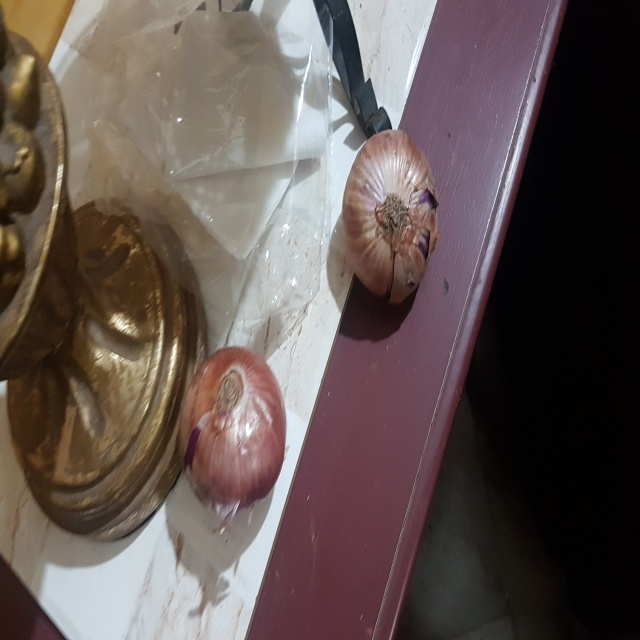onion: (173, 347, 296, 513), (340, 130, 448, 308)
